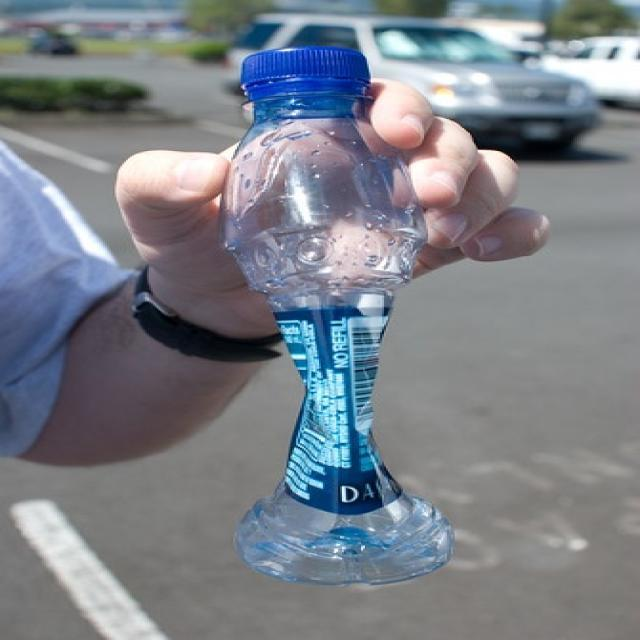plastic_bottle: (218, 46, 454, 586)
